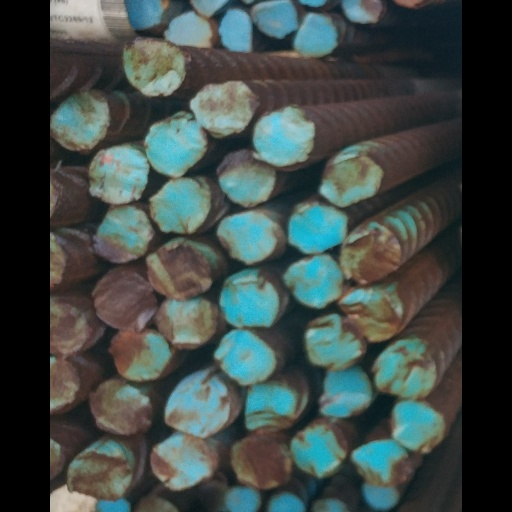dipstick: (116, 235, 219, 300), (111, 108, 200, 179), (137, 372, 232, 436), (360, 220, 444, 288), (400, 338, 485, 402), (88, 32, 170, 98), (310, 313, 403, 370), (333, 145, 418, 207), (21, 440, 106, 501), (250, 106, 332, 169), (357, 285, 443, 345), (208, 209, 295, 268), (203, 327, 291, 385), (49, 143, 131, 205), (209, 268, 292, 329), (205, 148, 288, 208), (55, 265, 134, 327), (297, 417, 372, 482), (47, 375, 131, 433), (1, 85, 77, 148), (293, 197, 374, 256), (52, 203, 129, 265), (172, 79, 251, 139), (220, 431, 303, 488), (119, 435, 206, 489), (285, 253, 367, 310), (73, 326, 156, 381), (370, 436, 457, 487), (121, 179, 201, 234), (420, 398, 498, 454), (327, 366, 405, 421), (129, 296, 213, 347), (239, 383, 321, 434), (0, 294, 59, 357), (142, 10, 212, 51), (303, 11, 360, 60), (247, 1, 318, 39), (208, 9, 257, 53), (388, 483, 441, 511), (212, 490, 265, 512)
